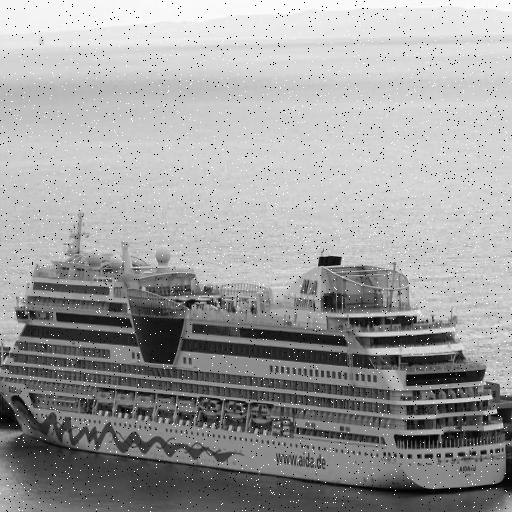cruises: (1, 211, 512, 501)
